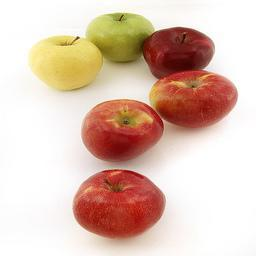apple: (72, 169, 166, 238), (80, 98, 164, 164), (148, 69, 237, 129), (26, 34, 103, 91), (140, 27, 215, 78), (83, 12, 155, 62)
